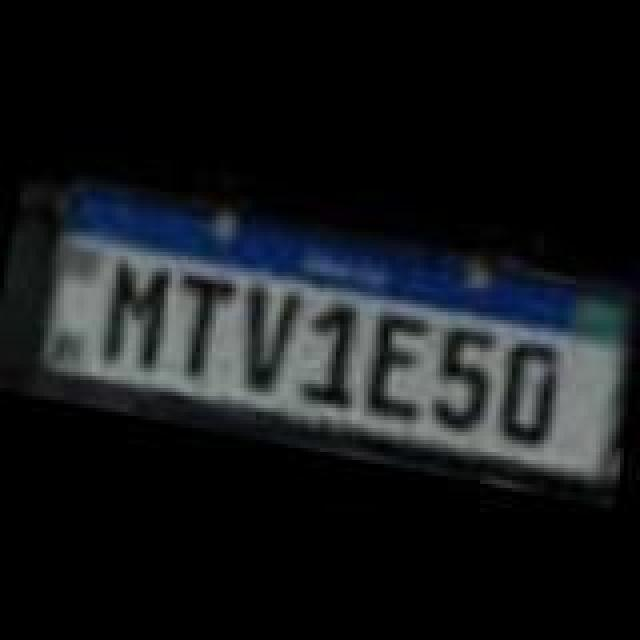1: (296, 292, 368, 412)
5: (424, 316, 504, 436)
D: (488, 332, 568, 452)
E: (356, 302, 436, 418)
M: (94, 252, 178, 372)
T: (158, 270, 242, 386)
V: (226, 274, 310, 398)
